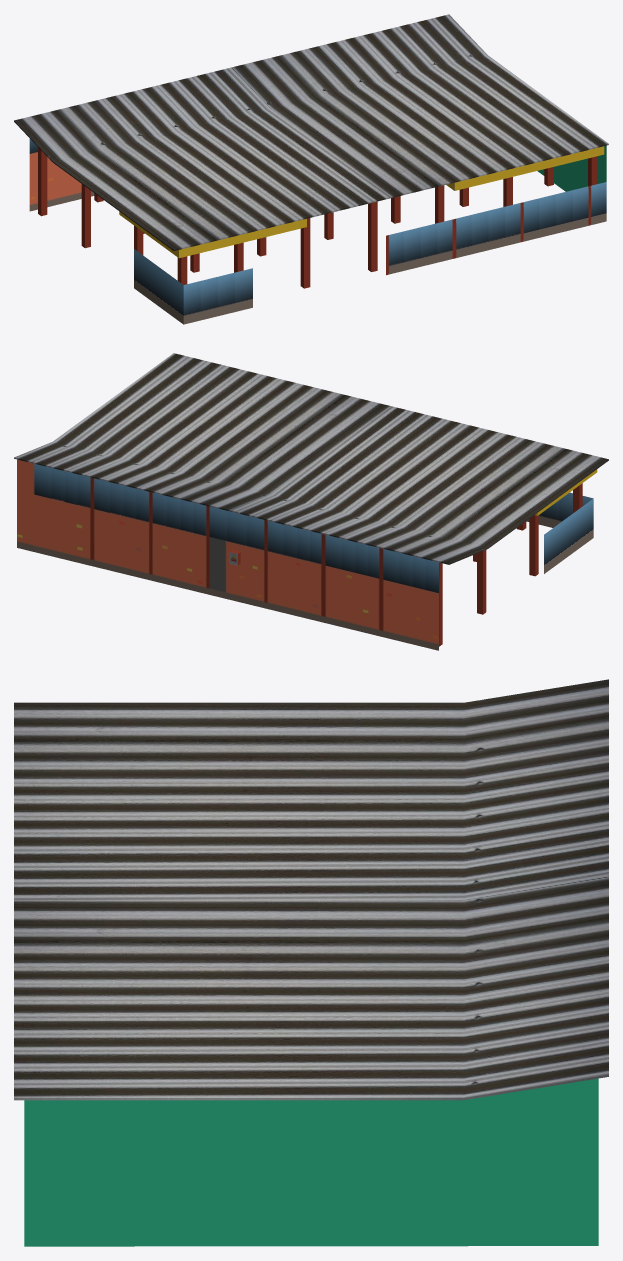
Rendered from edif 16.fbx.
3 views of the same model, one above another, from view 1: azimuth 30°, elevation 25°; view 2: azimuth 150°, elevation 25°; view 3: azimuth 270°, elevation 25° (orthographic). The views are drawn at different scales.
Visible parts, largest first — view 1: polySurface152; view 2: polySurface152; view 3: polySurface152.
Part boxes in pixels (x1=…): polySurface152: x1=14, y1=14, x2=608, y2=324; polySurface152: x1=14, y1=353, x2=608, y2=650; polySurface152: x1=14, y1=679, x2=608, y2=1246.
Bounding box in the file's own units: 276 × 55.93 × 176.
1 material, 1 textured.
